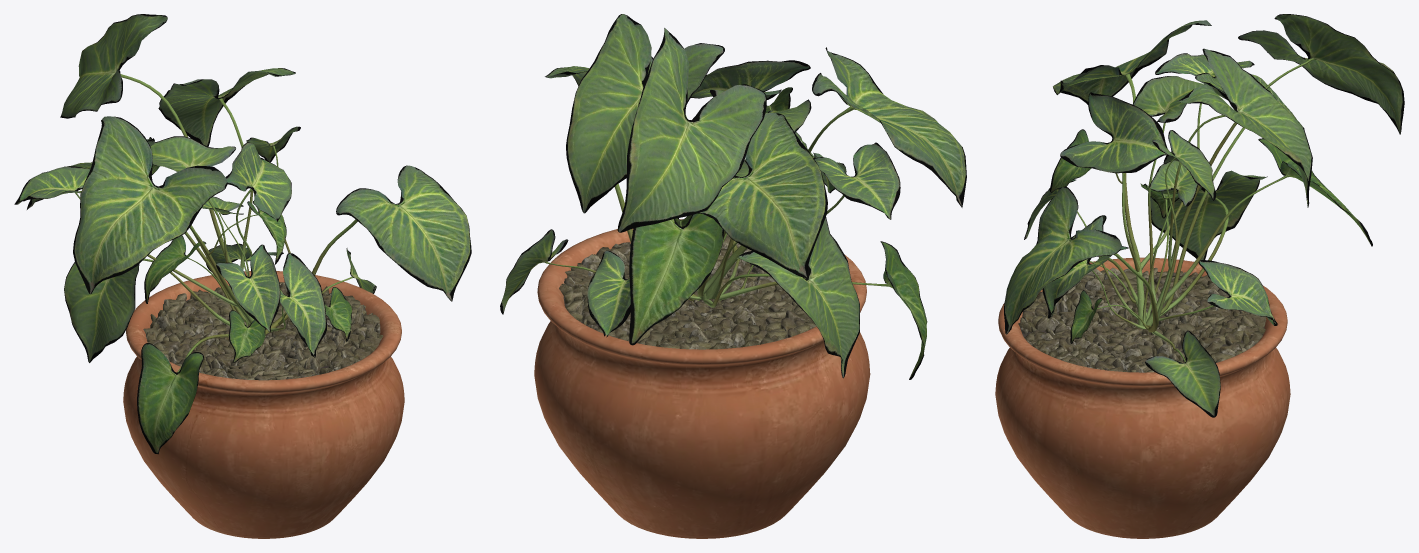
Rendered from potted_plant_02.gltf.
3 renders of one model, left to right at view 1: azimuth 30°, elevation 25°; view 2: azimuth 150°, elevation 25°; view 3: azimuth 270°, elevation 25°, orthographic. The views are drawn at different scales.
Visible parts, largest first — view 1: potted_plant_02_leaves, potted_plant_02_pot, potted_plant_02_dirt; view 2: potted_plant_02_leaves, potted_plant_02_pot, potted_plant_02_dirt; view 3: potted_plant_02_leaves, potted_plant_02_pot, potted_plant_02_dirt.
Part boxes in pixels (x1,y1,x2,y2): potted_plant_02_leaves: (14, 14, 471, 454); potted_plant_02_pot: (123, 271, 404, 538); potted_plant_02_dirt: (143, 282, 383, 380); potted_plant_02_leaves: (500, 14, 966, 379); potted_plant_02_pot: (534, 219, 870, 538); potted_plant_02_dirt: (559, 234, 816, 349); potted_plant_02_leaves: (1004, 14, 1404, 417); potted_plant_02_pot: (995, 257, 1290, 538); potted_plant_02_dirt: (1018, 267, 1266, 372).
Size of the model in its own units: 0.7012 by 0.8412 by 0.6574.
2 materials, 2 textured.
